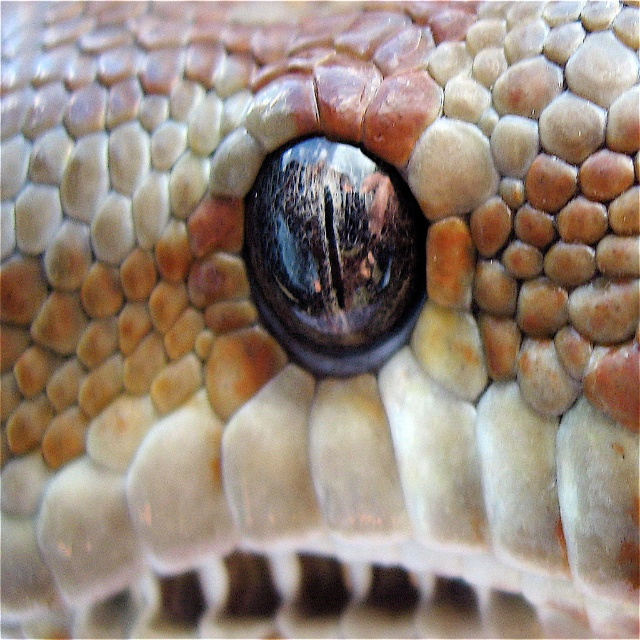Snake: (0, 0, 638, 639)
